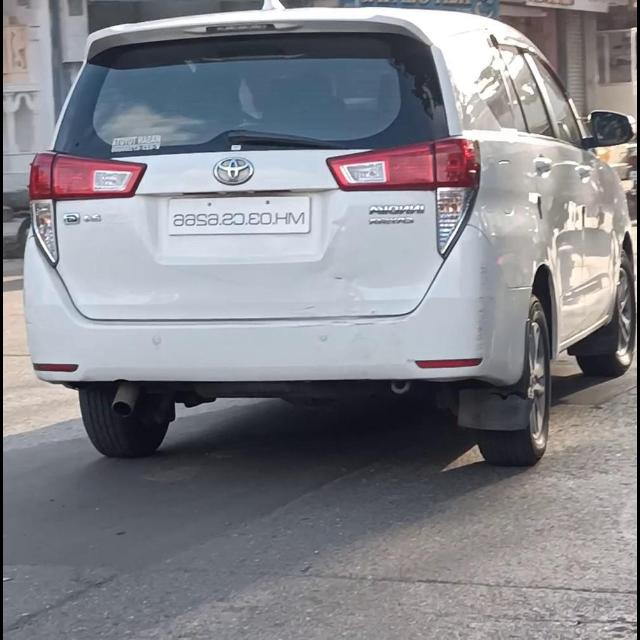vehicles: (19, 12, 629, 466)
